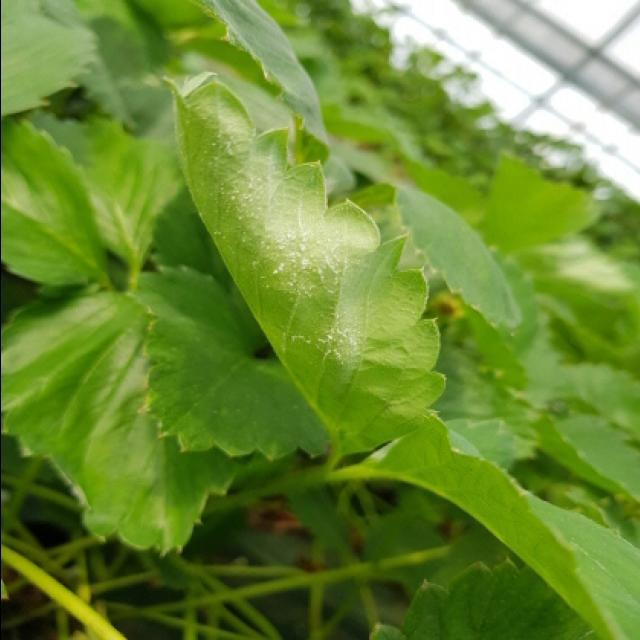Powdery Mildew Leaf: (160, 71, 447, 458)
